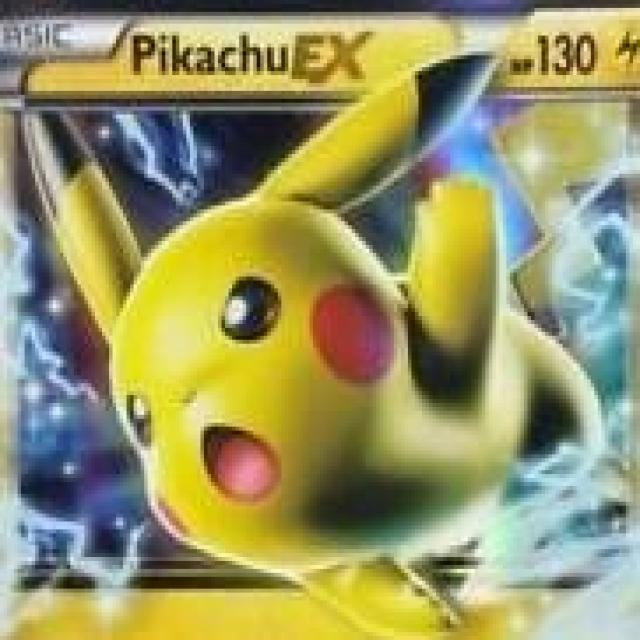pikachu: (25, 50, 607, 562)
